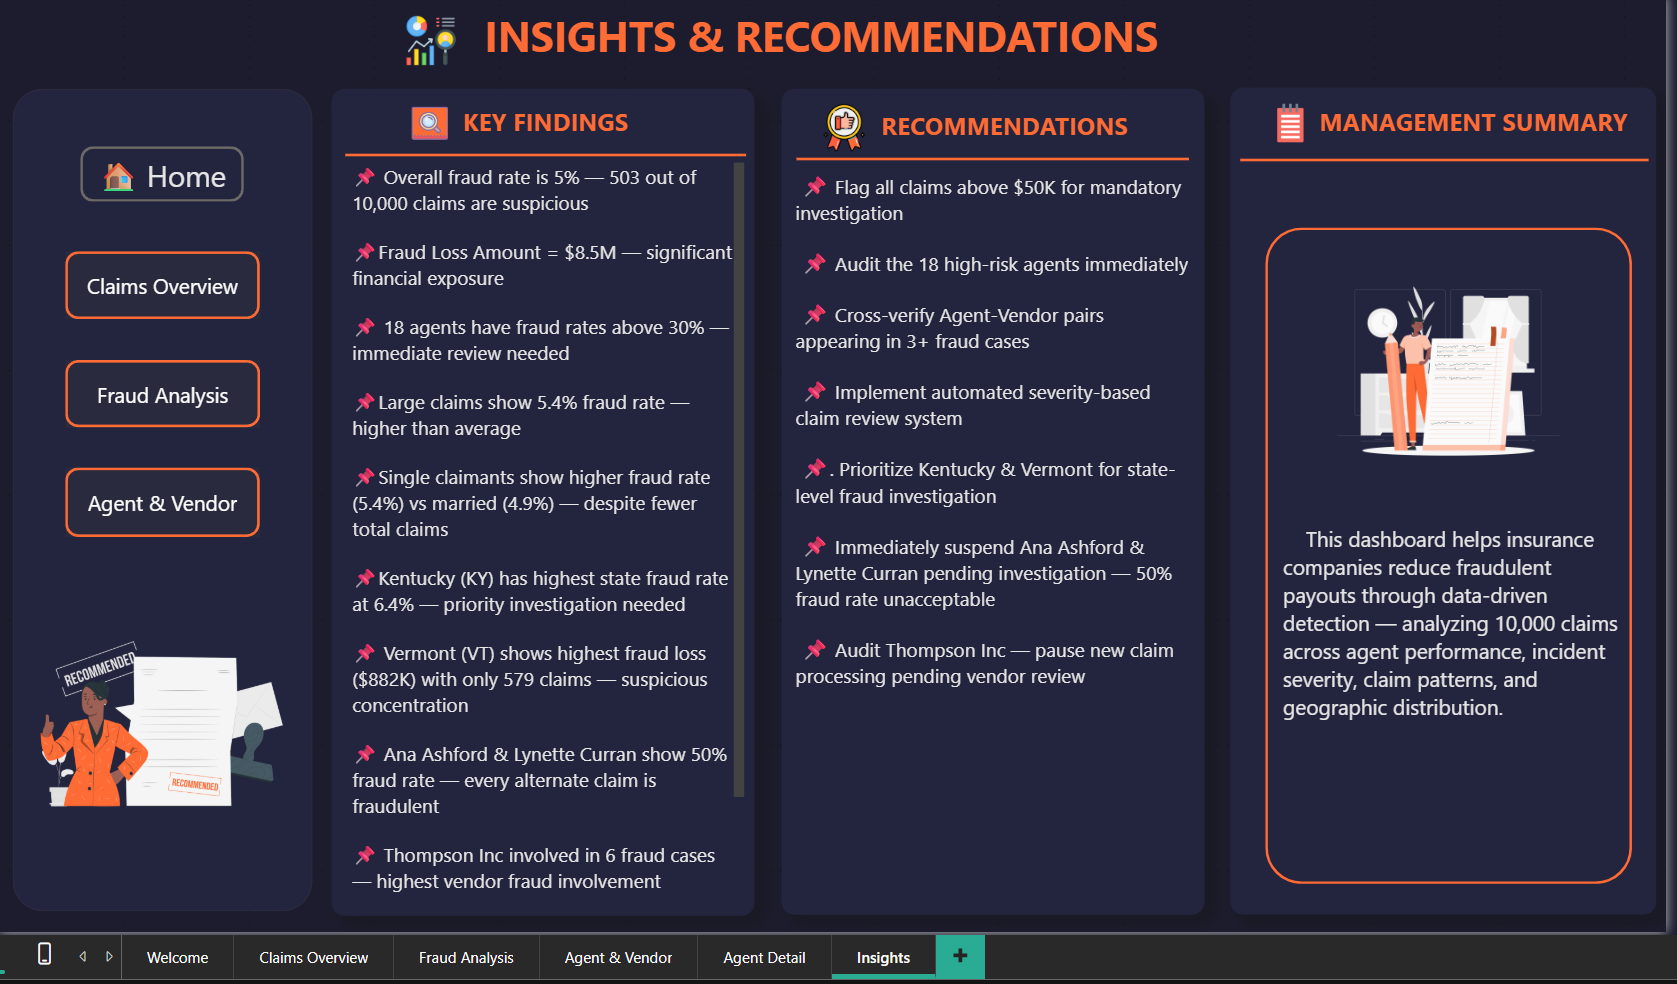

Layout of this report page (visuals, bound fields, positions):
{"tool":"powerbi","page":{"name":"Insights","canvas":[1280,720],"ordinal":5},"visuals":[{"type":"shape","box":[945.6,71,327,635.5],"z":0,"group":"g2"},{"type":"shape","box":[10.3,72.3,230.2,631.7],"z":0},{"type":"shape","box":[600.5,72.3,325,634.2],"z":0,"group":"g4"},{"type":"image","box":[970.7,83.6,42.7,29.6],"z":0,"group":"g5"},{"type":"textbox","box":[266.1,124.5,311.4,579.4],"z":0,"group":"g6"},{"type":"group","id":"g1","title":"Group 7","box":[606.2,83,311.7,611.1],"z":1000,"group":"g4"},{"type":"image","box":[625.9,84.1,46.5,36.4],"z":1000,"group":"g7"},{"type":"shape","box":[972.8,177.9,281.7,504.3],"z":1000,"group":"g5"},{"type":"textbox","box":[-6.4,4.8,1276.4,62.8],"z":2000,"group":"g10"},{"type":"group","id":"g2","title":"Group 9","box":[945.6,71,327,635.5],"z":2000},{"type":"shape","box":[255.4,72,325,635],"z":2000,"group":"g3"},{"type":"textbox","box":[653.3,83,242.6,50.8],"z":2000,"group":"g7"},{"type":"shape","box":[953.2,119.3,313.9,13.4],"z":2000,"group":"g5"},{"type":"group","id":"g3","title":"Group 6","box":[255.4,72,325,635],"z":2001,"group":"g8"},{"type":"group","id":"g4","title":"Group 11","box":[600.5,72.3,325,634.2],"z":3000},{"type":"textbox","box":[998.4,79.3,263,47],"z":3000,"group":"g5"},{"type":"shape","box":[612,117.1,301.4,17.7],"z":3000,"group":"g7"},{"type":"actionButton","box":[51,196.7,149.3,52.1],"z":4000},{"type":"textbox","box":[981.4,401.2,270.2,254.8],"z":4000,"group":"g5"},{"type":"textbox","box":[265.9,79.9,302.8,44.3],"z":5000,"group":"g6"},{"type":"image","box":[989.1,206.7,248.8,171.1],"z":5000,"group":"g5"},{"type":"actionButton","box":[50.6,280.8,149.7,51.6],"z":5000},{"type":"shape","box":[265.9,116.5,307.8,13.4],"z":6000,"group":"g6"},{"type":"actionButton","box":[51,362.7,149.3,53.3],"z":6000},{"type":"group","id":"g5","title":"Group 8","box":[953.2,79.3,313.9,602.9],"z":6002,"group":"g2"},{"type":"group","id":"g6","title":"Group 3","box":[265.9,79.9,311.6,624],"z":6002,"group":"g3"},{"type":"group","id":"g7","title":"Group 10","box":[606.2,83,311.7,611.1],"z":6004,"group":"g1"},{"type":"group","id":"g8","title":"Group 1","box":[255.4,72,325,635],"z":7000},{"type":"actionButton","box":[62.8,116.1,125.6,42.7],"z":8000},{"type":"textbox","box":[606.2,131.4,311.7,562.7],"z":8000,"group":"g7"},{"type":"image","box":[304.6,15.7,54.5,39.1],"z":8001,"group":"g10"},{"type":"group","id":"g9","title":"Group 12","box":[-6.4,4.8,1276.4,62.8],"z":10000},{"type":"image","box":[10.6,452.2,229.4,215],"z":11000},{"type":"image","box":[314.9,79.7,31.7,37.4],"z":11500},{"type":"group","id":"g10","title":"Group 2","box":[-6.4,4.8,1276.4,62.8],"z":11501,"group":"g9"}]}

Visuals, with their boxes on the page's 1280x720 design canvas (x1, y1, x2, y2). These are canvas units, not pixel positions in the 1677x984 screenshot, which may show the page scaled, cropped or inside an application window:
shape: [946,71,1273,706]
shape: [10,72,240,704]
shape: [600,72,926,706]
image: [971,84,1013,113]
textbox: [266,124,578,704]
"Group 7" group: [606,83,918,694]
image: [626,84,672,120]
shape: [973,178,1254,682]
textbox: [-6,5,1270,68]
"Group 9" group: [946,71,1273,706]
shape: [255,72,580,707]
textbox: [653,83,896,134]
shape: [953,119,1267,133]
"Group 6" group: [255,72,580,707]
"Group 11" group: [600,72,926,706]
textbox: [998,79,1261,126]
shape: [612,117,913,135]
actionButton: [51,197,200,249]
textbox: [981,401,1252,656]
textbox: [266,80,569,124]
image: [989,207,1238,378]
actionButton: [51,281,200,332]
shape: [266,116,574,130]
actionButton: [51,363,200,416]
"Group 8" group: [953,79,1267,682]
"Group 3" group: [266,80,578,704]
"Group 10" group: [606,83,918,694]
"Group 1" group: [255,72,580,707]
actionButton: [63,116,188,159]
textbox: [606,131,918,694]
image: [305,16,359,55]
"Group 12" group: [-6,5,1270,68]
image: [11,452,240,667]
image: [315,80,347,117]
"Group 2" group: [-6,5,1270,68]
